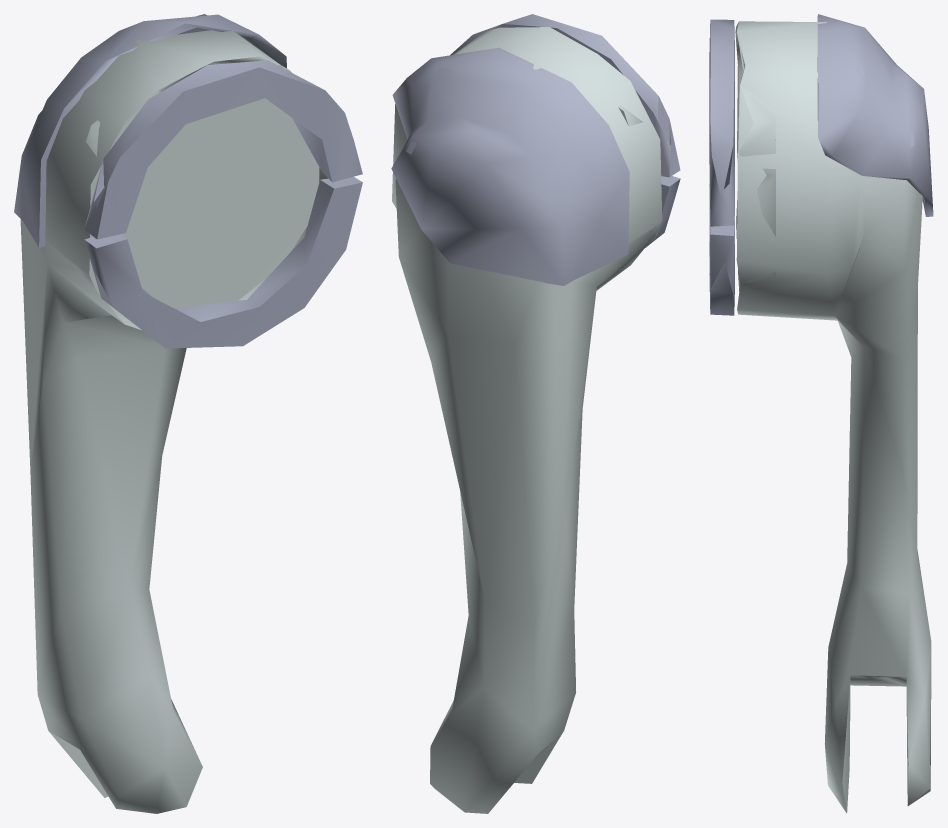
File: thigh_dae.dae
The picture shows the model from 3 angles, left to right: view 1: azimuth 30°, elevation 25°; view 2: azimuth 150°, elevation 25°; view 3: azimuth 270°, elevation 25°; orthographic projection. The views are drawn at different scales.
Visible parts, largest first — view 1: thigh_dae; view 2: thigh_dae; view 3: thigh_dae.
Boxes of the visible parts, x1,y1,x2,y2 form: thigh_dae: [14, 14, 362, 813]; thigh_dae: [391, 14, 680, 813]; thigh_dae: [709, 14, 933, 813].
Size of the model in its own units: 0.0964 by 0.0726 by 0.2767.
